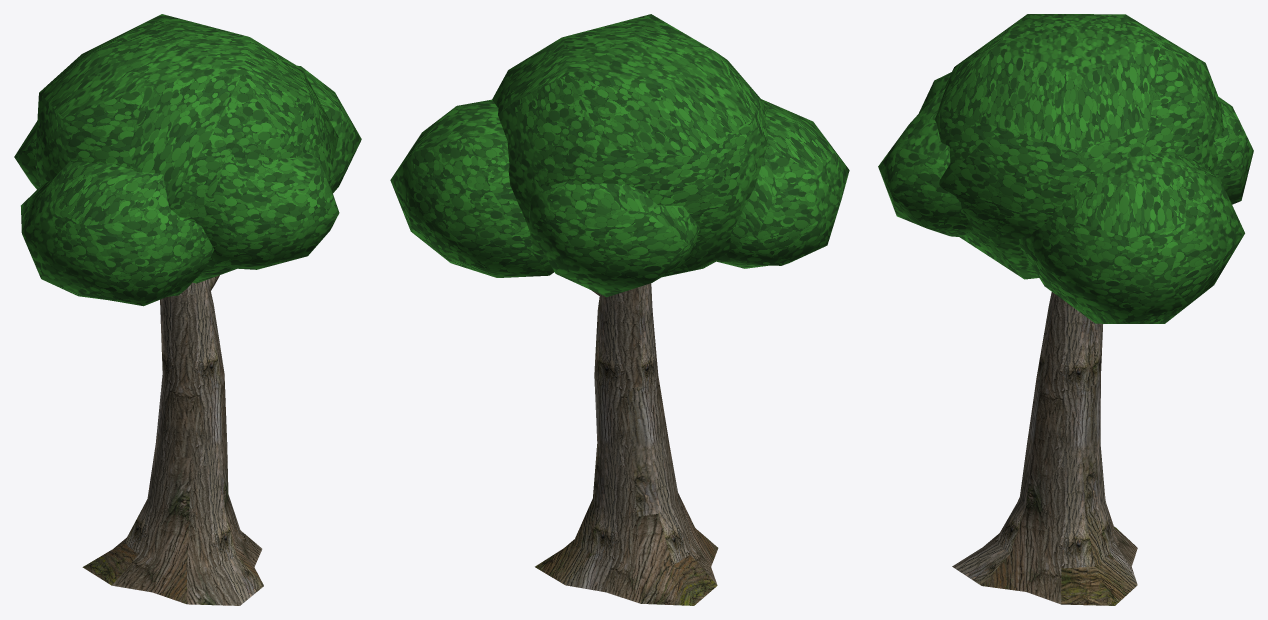
The model's file is Prop_BigTree.fbx.
The picture shows the model from 3 angles, left to right: view 1: azimuth 30°, elevation 25°; view 2: azimuth 150°, elevation 25°; view 3: azimuth 270°, elevation 25°; orthographic projection. The views are drawn at different scales.
Parts seen in each view (by area): view 1: BigTree_Canopy, BigTree_Trunk; view 2: BigTree_Canopy, BigTree_Trunk; view 3: BigTree_Canopy, BigTree_Trunk.
Boxes of the visible parts, <box> form: BigTree_Canopy: <box>14,14,361,306</box>; BigTree_Trunk: <box>82,275,263,605</box>; BigTree_Canopy: <box>390,14,849,297</box>; BigTree_Trunk: <box>535,283,718,605</box>; BigTree_Canopy: <box>878,14,1253,323</box>; BigTree_Trunk: <box>952,292,1137,605</box>.
Size of the model in its own units: 2.82 by 3.88 by 2.45.
Materials: 2 (2 with a texture image).
